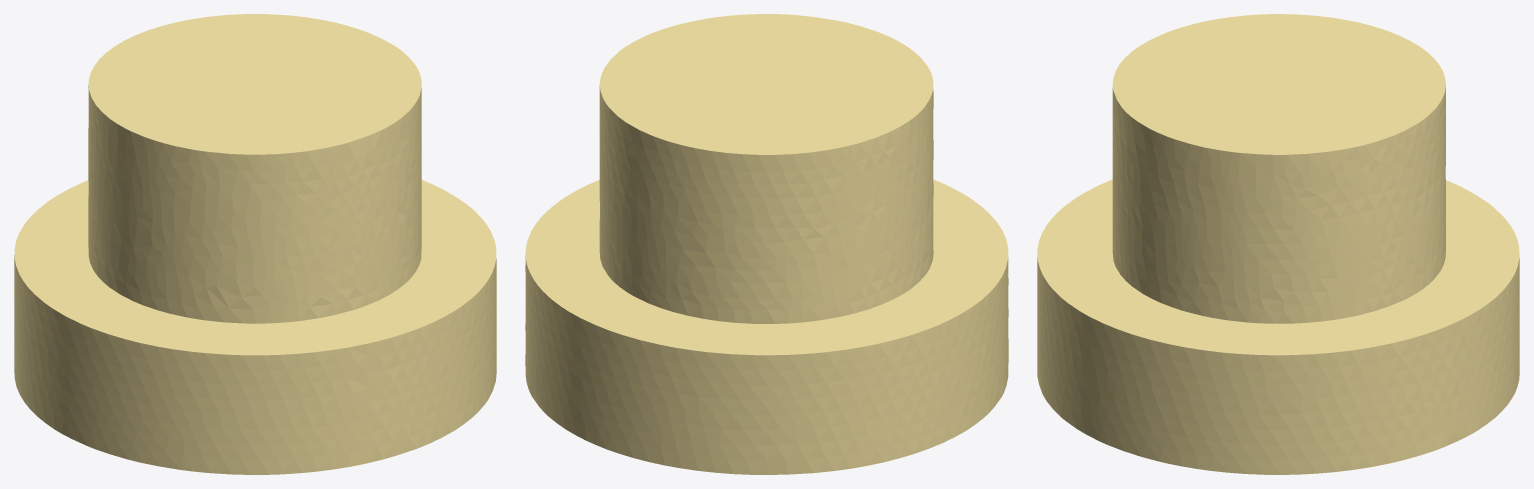
File: input.gltf
3 views of the same model, side by side, from view 1: azimuth 30°, elevation 25°; view 2: azimuth 150°, elevation 25°; view 3: azimuth 270°, elevation 25° (orthographic).
Parts seen in each view (by area): view 1: Renderer Node; view 2: Renderer Node; view 3: Renderer Node.
Part boxes in pixels (bbox=[...]): Renderer Node: bbox=[14, 14, 496, 474]; Renderer Node: bbox=[525, 14, 1008, 474]; Renderer Node: bbox=[1037, 14, 1519, 474].
Bounding box in the file's own units: 0.9708 × 0.6406 × 0.971.
